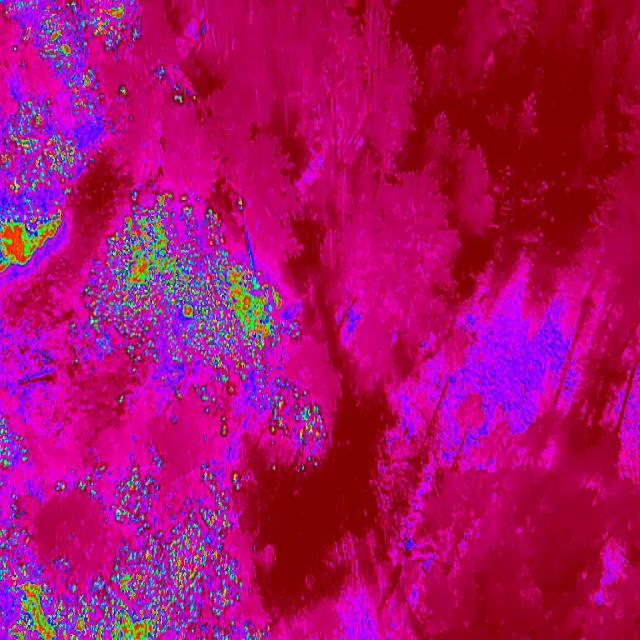fire: (85, 189, 297, 375), (57, 557, 265, 640), (2, 0, 145, 65), (0, 94, 81, 197), (0, 527, 58, 640), (260, 386, 330, 473), (115, 513, 237, 559), (0, 204, 66, 278), (193, 374, 237, 444), (112, 468, 160, 524), (64, 66, 104, 116), (0, 414, 30, 474), (198, 464, 230, 514), (79, 458, 112, 501), (168, 86, 201, 108), (227, 470, 250, 494), (116, 84, 128, 98)
